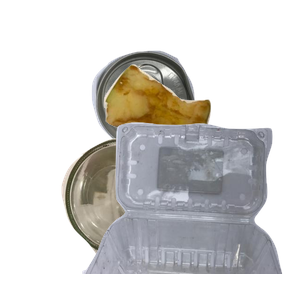glass: (59, 135, 254, 300)
metal: (89, 48, 276, 192)
plastic: (80, 120, 300, 300)
trash: (101, 62, 300, 217)
